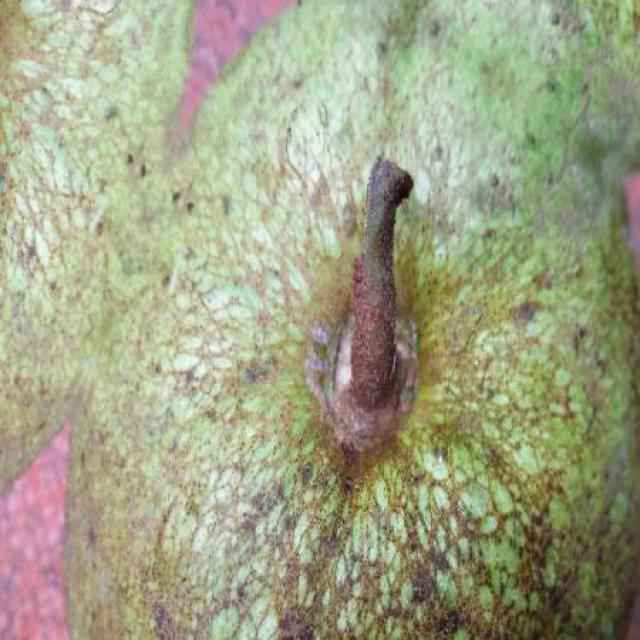Scab: (0, 0, 640, 639)
